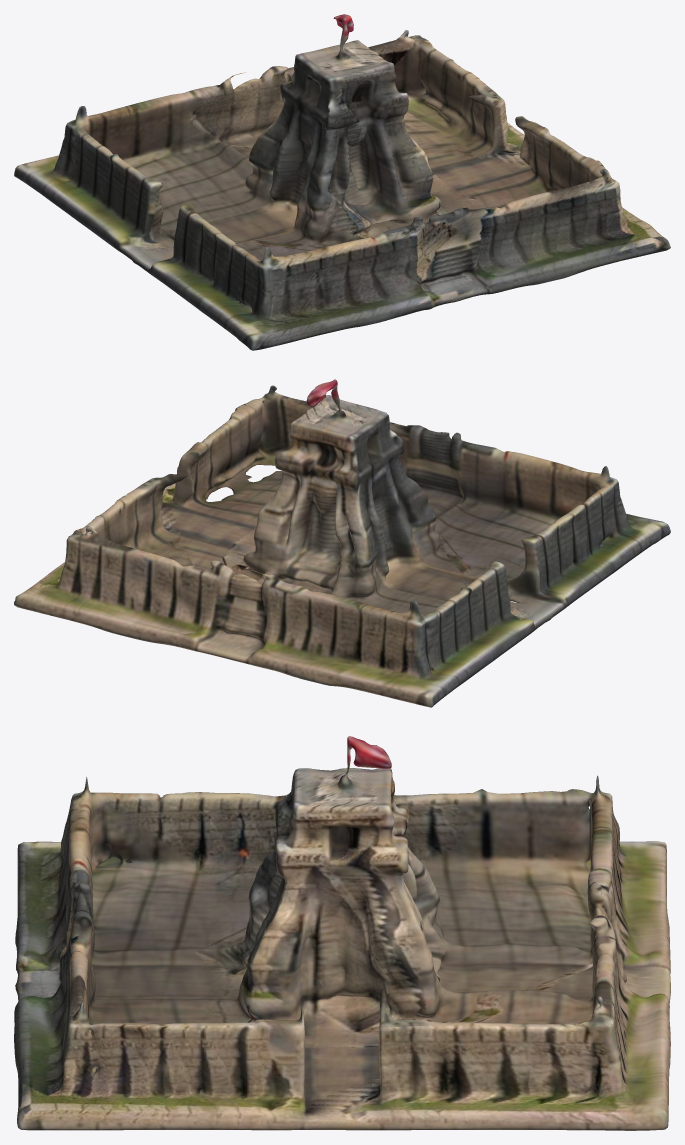
Rendered from fortress.glb.
3 renders of one model, top to bottom at view 1: azimuth 30°, elevation 25°; view 2: azimuth 150°, elevation 25°; view 3: azimuth 270°, elevation 25°, orthographic. The views are drawn at different scales.
Visible parts, largest first — view 1: tripo_node_8a7f33c6-3b37-40b3-a4cc-5031ae115587; view 2: tripo_node_8a7f33c6-3b37-40b3-a4cc-5031ae115587; view 3: tripo_node_8a7f33c6-3b37-40b3-a4cc-5031ae115587.
Part boxes in pixels (x1,y1,x2,y2): tripo_node_8a7f33c6-3b37-40b3-a4cc-5031ae115587: (14, 14, 670, 350); tripo_node_8a7f33c6-3b37-40b3-a4cc-5031ae115587: (14, 379, 670, 707); tripo_node_8a7f33c6-3b37-40b3-a4cc-5031ae115587: (14, 736, 670, 1130).
Bounding box in the file's own units: 0.6817 × 0.301 × 0.6822.
Materials: 1 (1 with a texture image).
